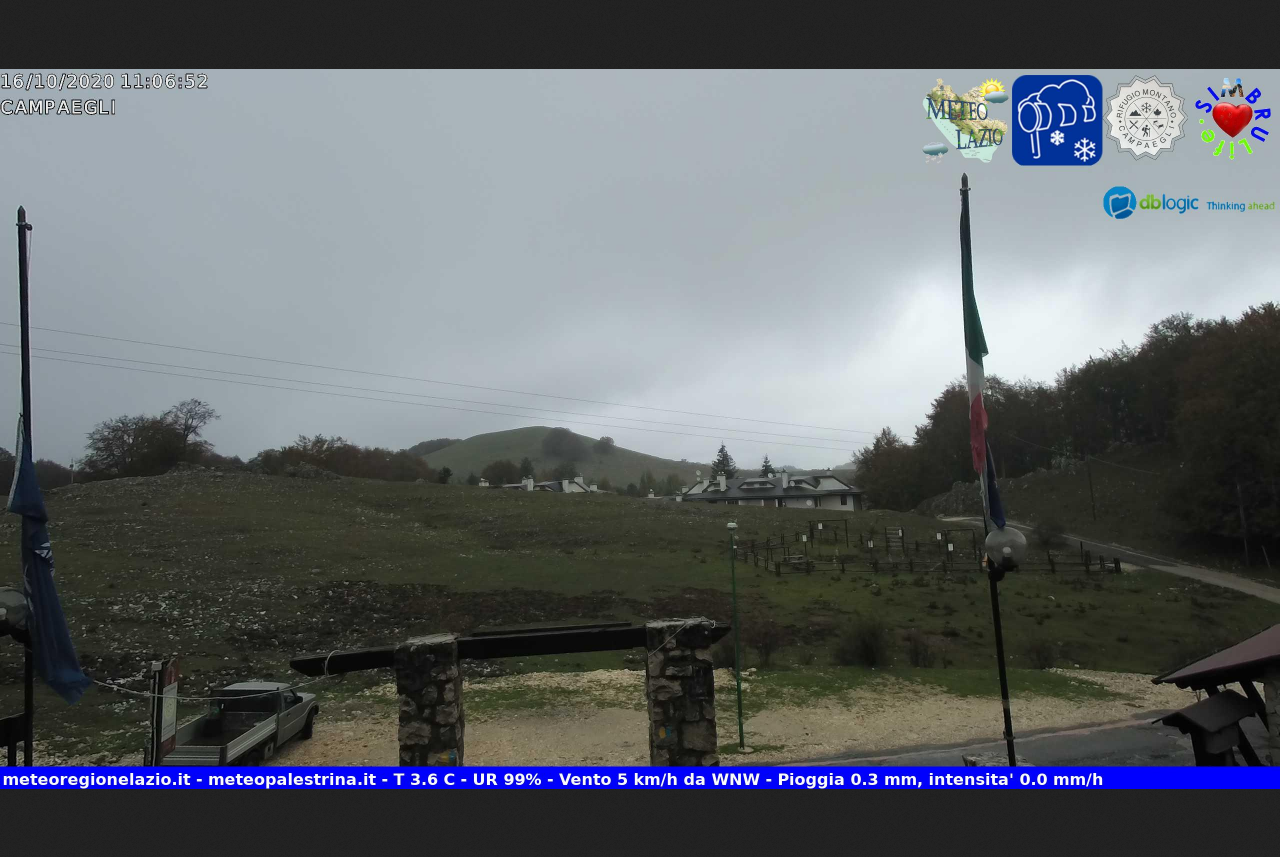no: (11, 410, 91, 705), (957, 196, 995, 481)
